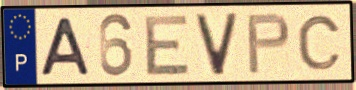6: (97, 11, 135, 80)
A: (38, 15, 94, 79)
C: (295, 13, 344, 72)
E: (143, 12, 192, 78)
P: (244, 11, 292, 76)
V: (193, 11, 241, 78)
